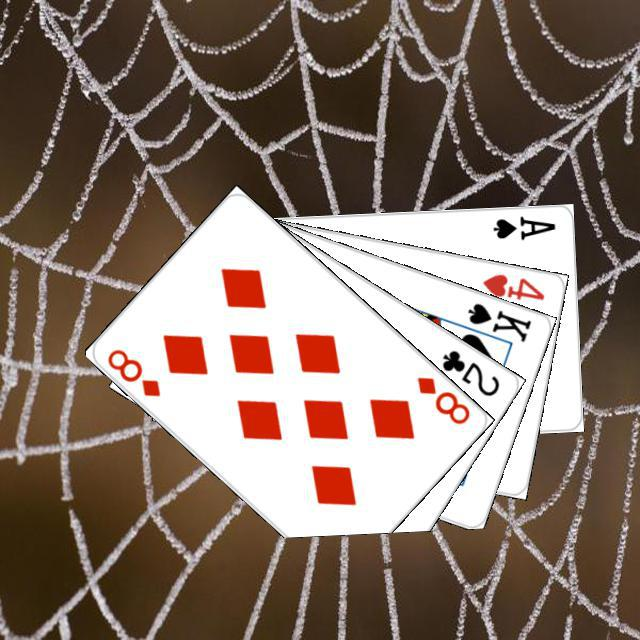2c: (437, 344, 502, 399)
4h: (477, 269, 546, 302)
8d: (102, 343, 162, 399), (411, 371, 472, 426)
As: (488, 211, 557, 242)
Ks: (462, 298, 533, 344)
